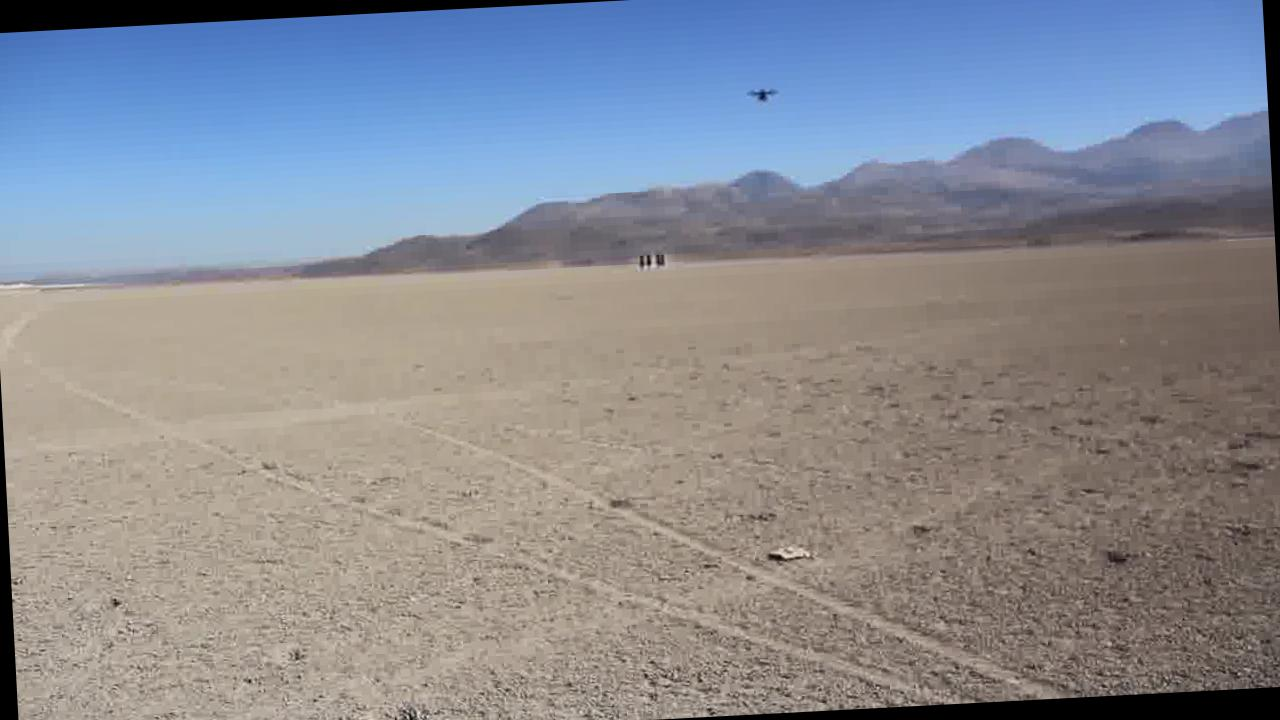drone: (739, 82, 782, 106)
